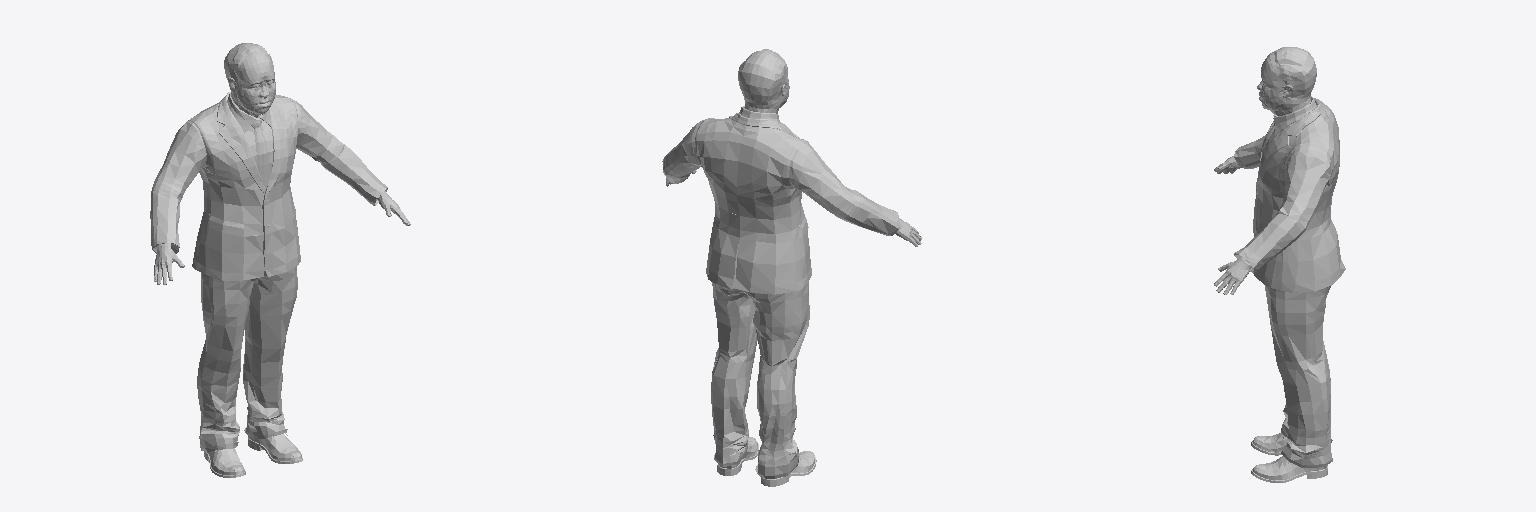
File: man.obj
The picture shows the model from 3 angles: view 1: azimuth 30°, elevation 25°; view 2: azimuth 150°, elevation 25°; view 3: azimuth 270°, elevation 25°; orthographic projection.
Bounding box in the file's own units: 10.4 × 16.34 × 4.7.